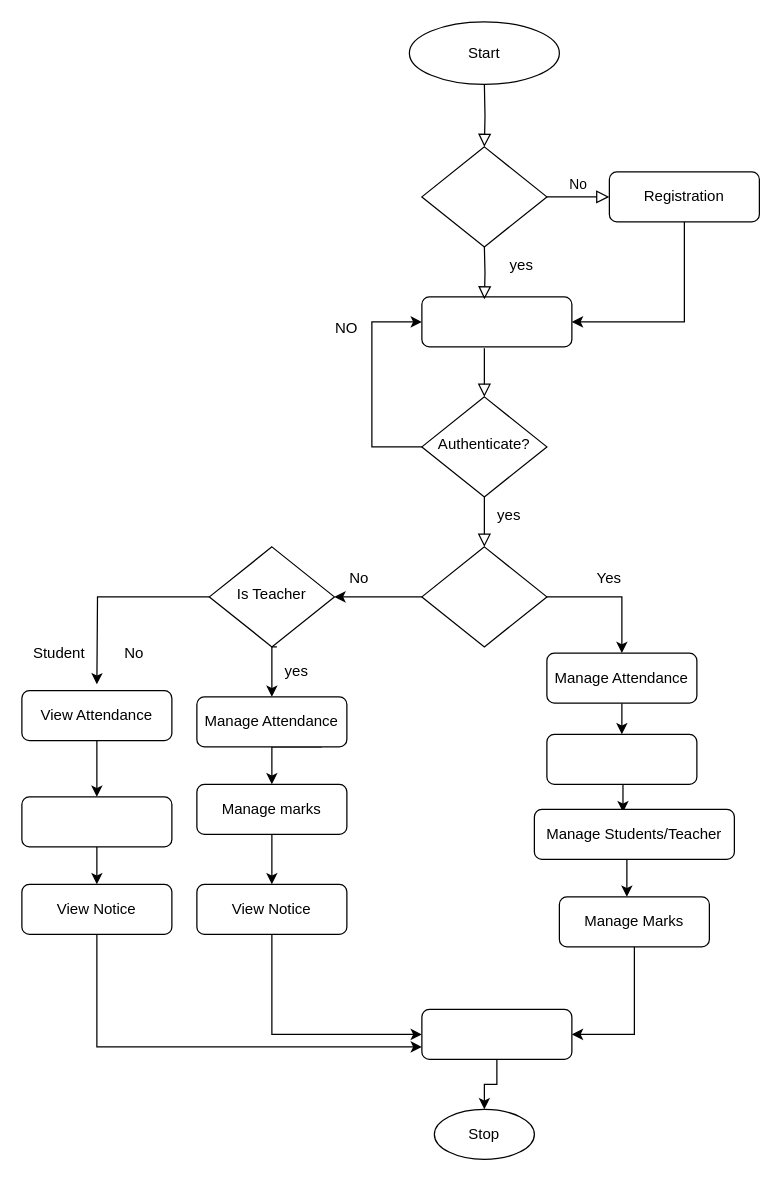
The diagram is 781 pixels wide and 1181 high, and some of its shapes have lost their labels. Here are the shapes that lost their labels. From the top down, the centre of each, then its label:
the point at 484,196: Is Registered?
the point at 496,321: Login
the point at 484,596: Is Admin
the point at 621,758: Manage Notice
the point at 96,821: View Marks
the point at 496,1033: Logout
